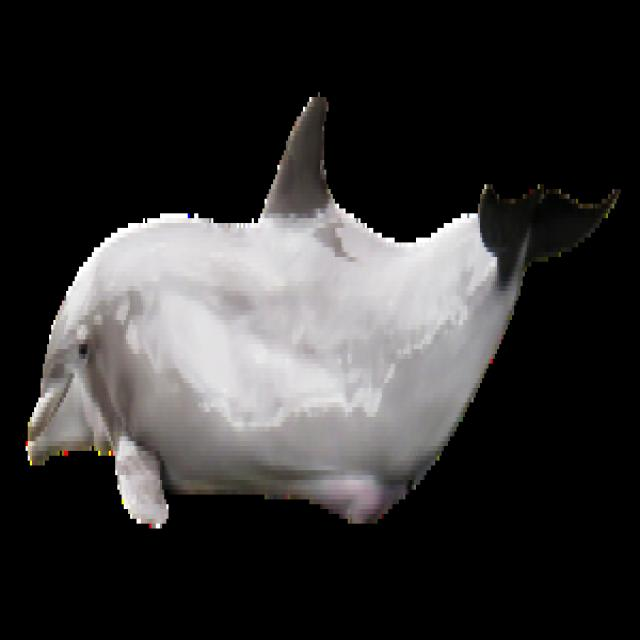Dolphin: (23, 86, 624, 536)
